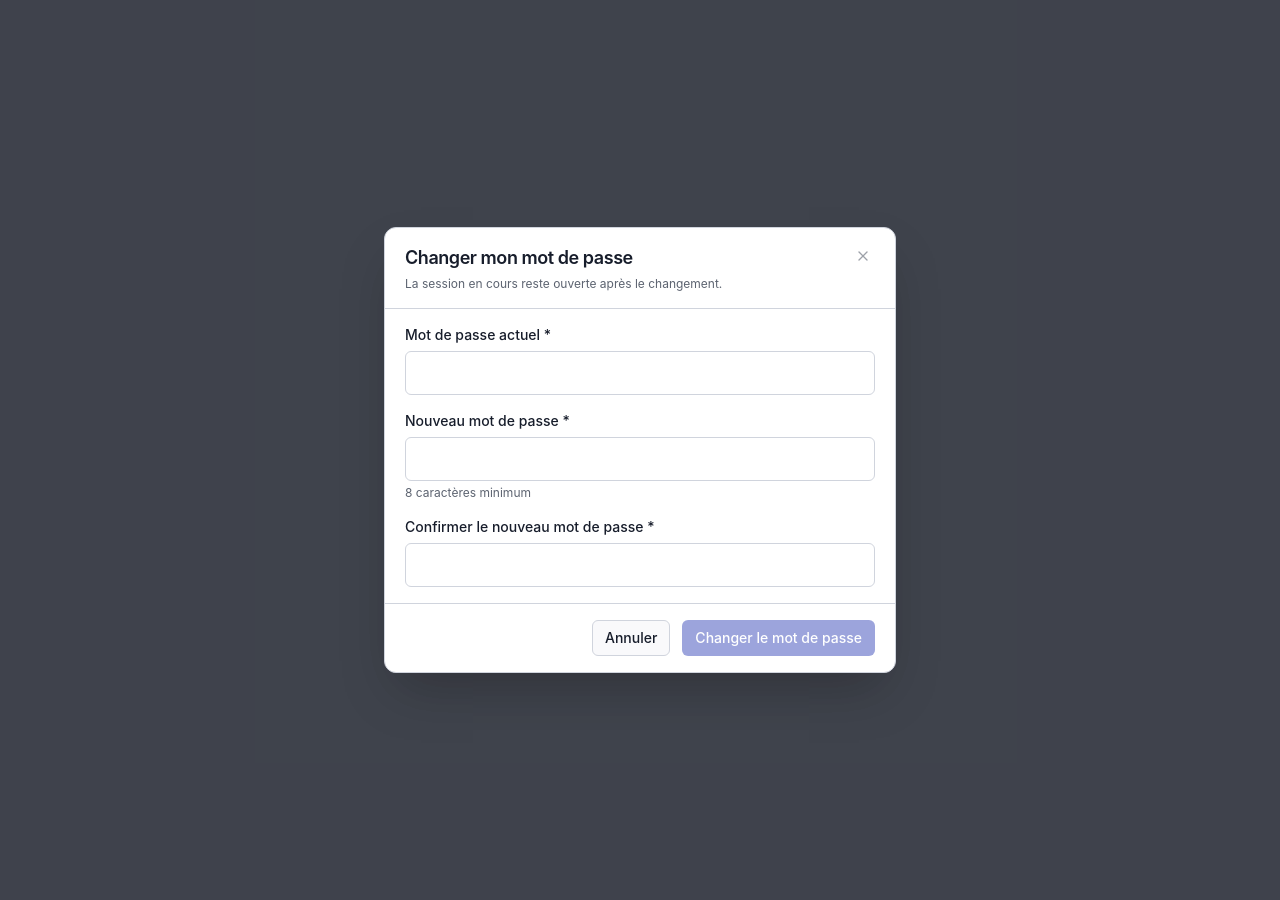
ChangePasswordModal › affiche un message ciblé si l’ancien mot de passe est refusé (code mot_de_passe_incorrect)
This screenshot has width=1280, height=900.
Type "faux" into the password field named "old-password" at [640, 373], box top-left (405, 351), bottom-right (875, 395)
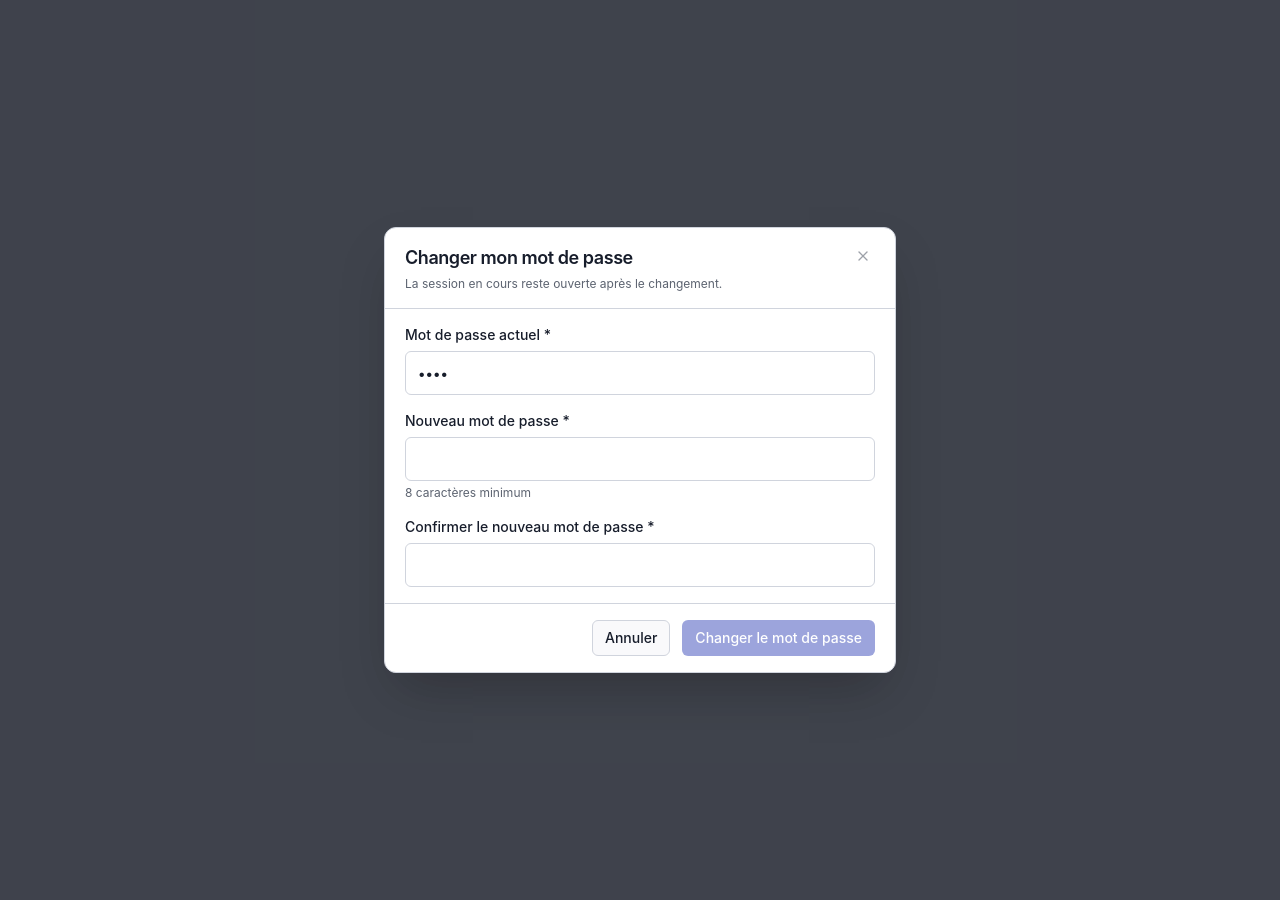
Type "nouveaumdp" into the password field named "new-password" at [640, 459], box top-left (405, 437), bottom-right (875, 481)
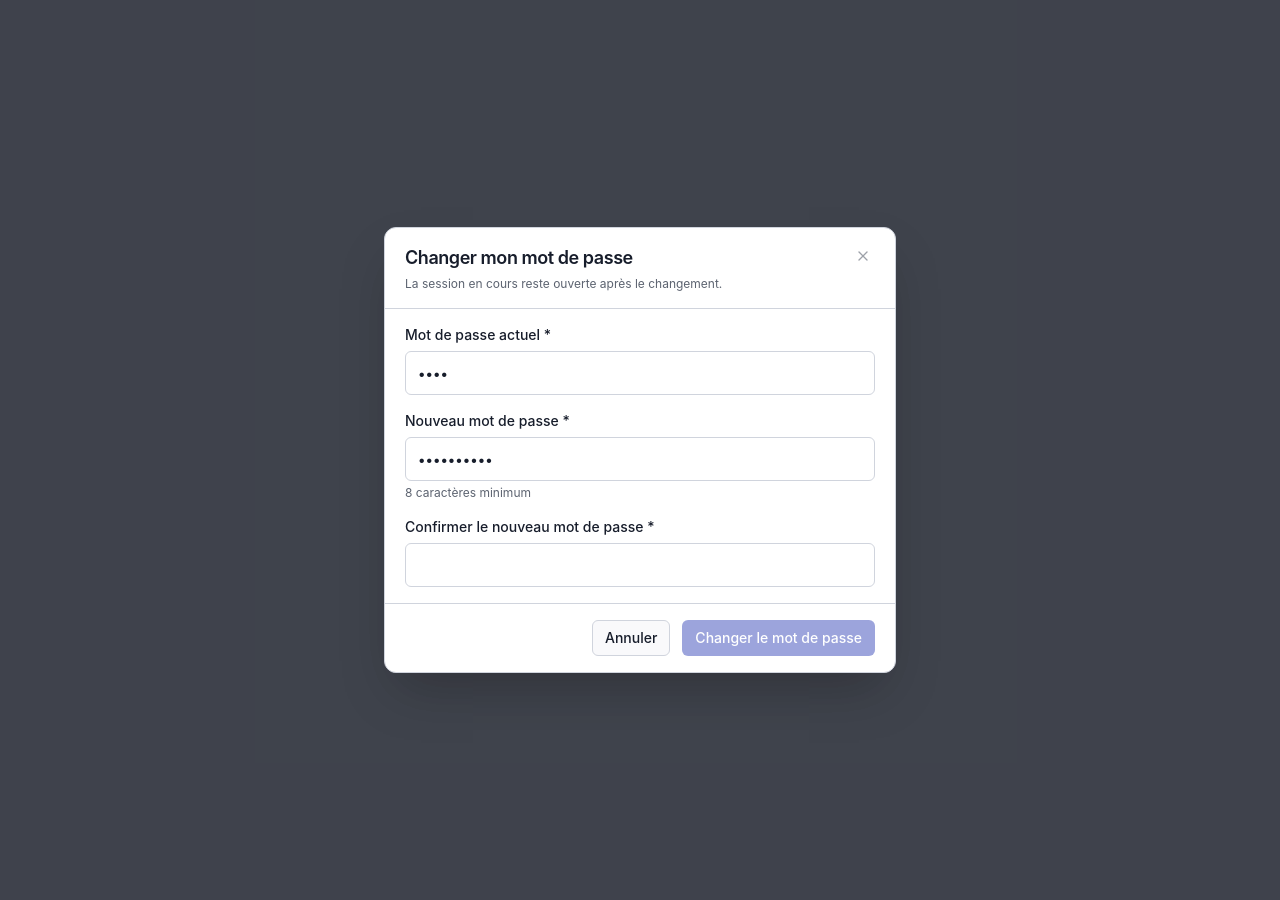
Type "nouveaumdp" into the password field named "confirm-password" at [640, 565], box top-left (405, 543), bottom-right (875, 587)
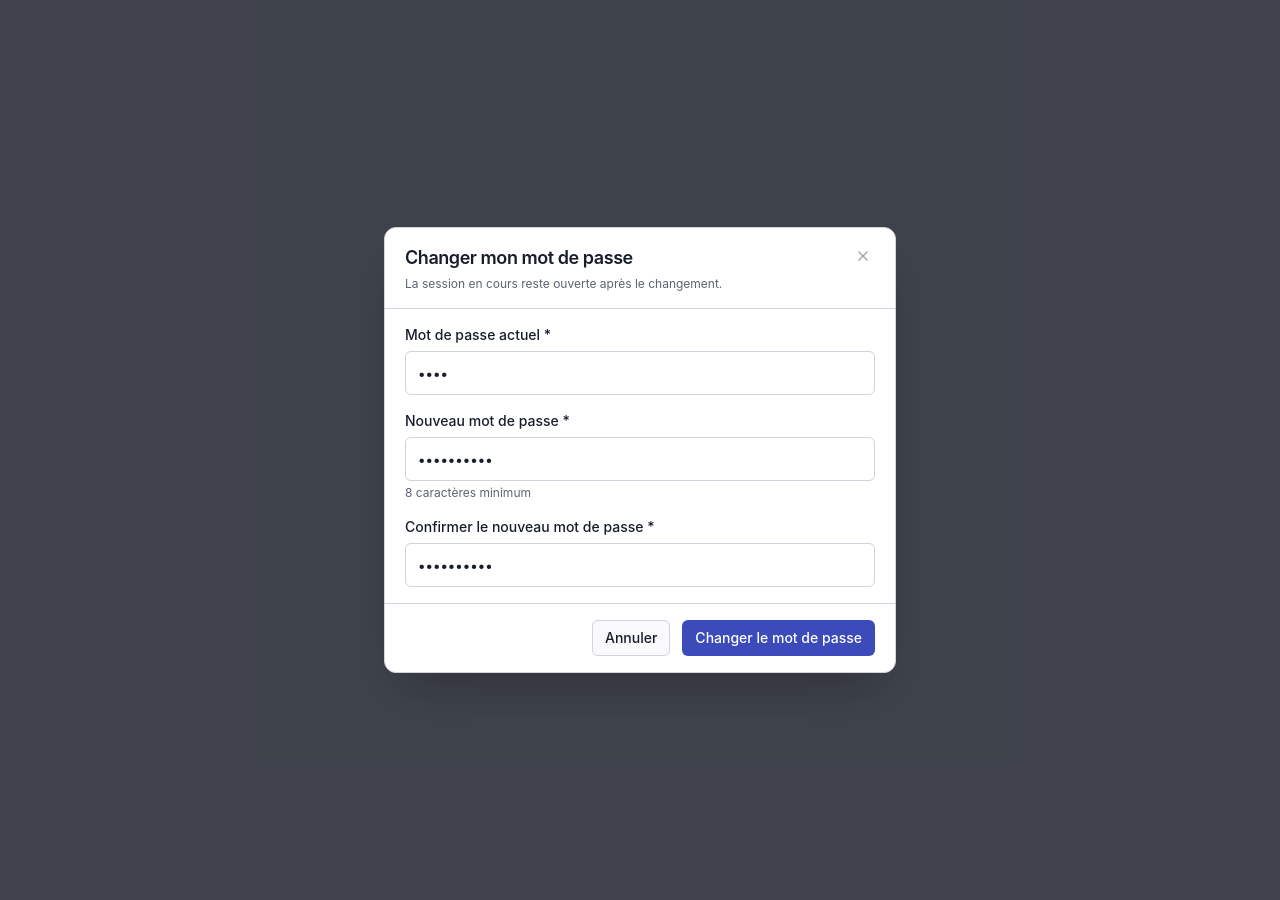
Submit the form with id "change-password", box top-left (405, 325), bottom-right (875, 587)
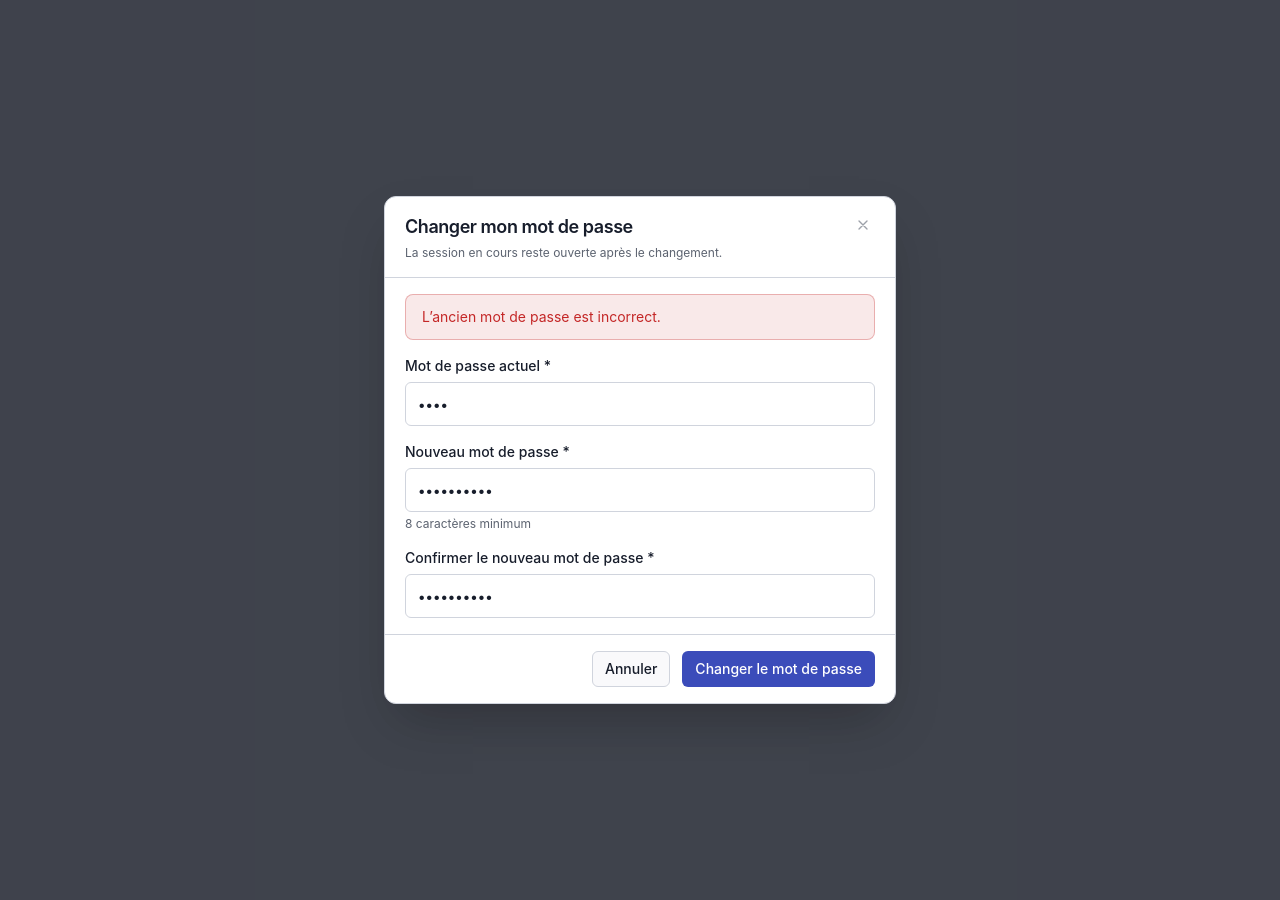
Result: the message "L’ancien mot de passe est incorrect." is shown at top-left (405, 294), bottom-right (875, 340)
